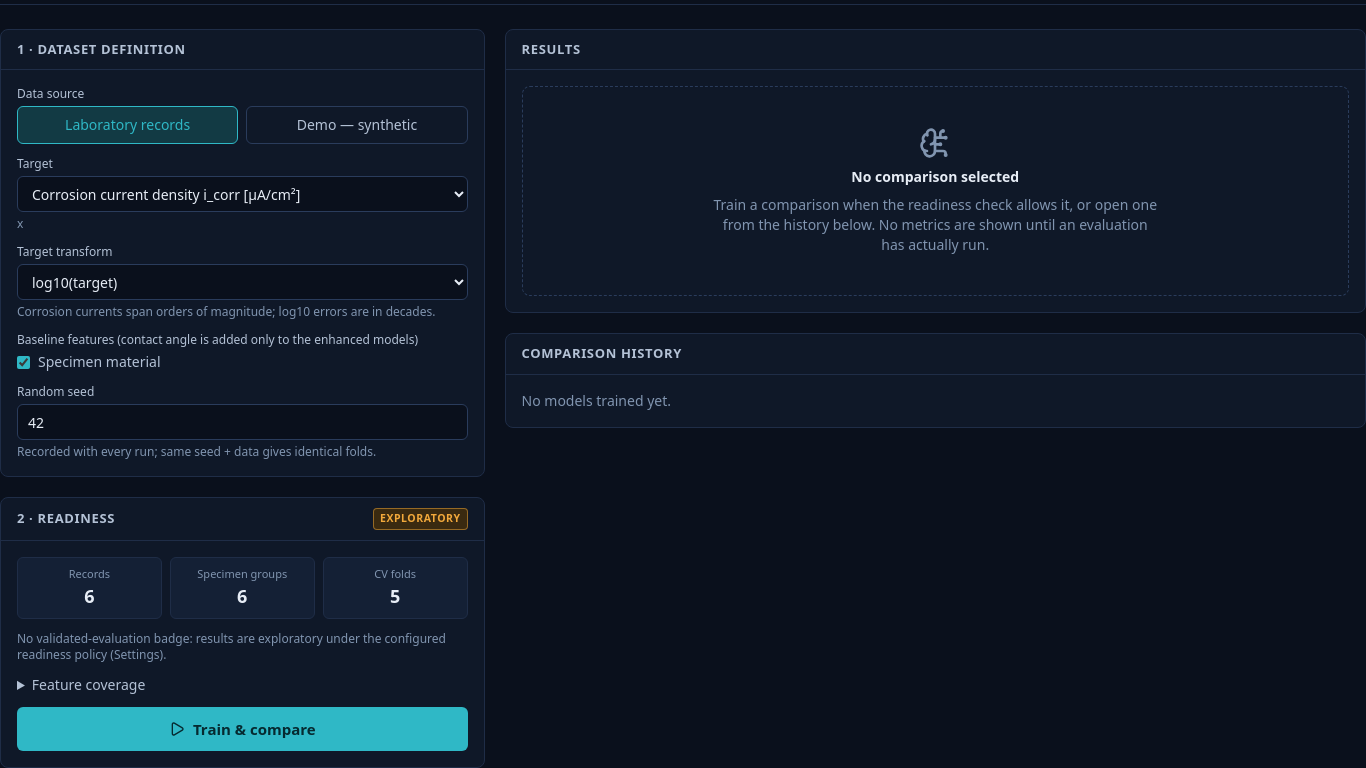
ML studio › shows a training failure returned by the backend
The width and height of the screenshot is (1366, 768).
(page scrolled)
Click the button "Train & compare": (242, 729) x1=17 y1=707 x2=468 y2=751
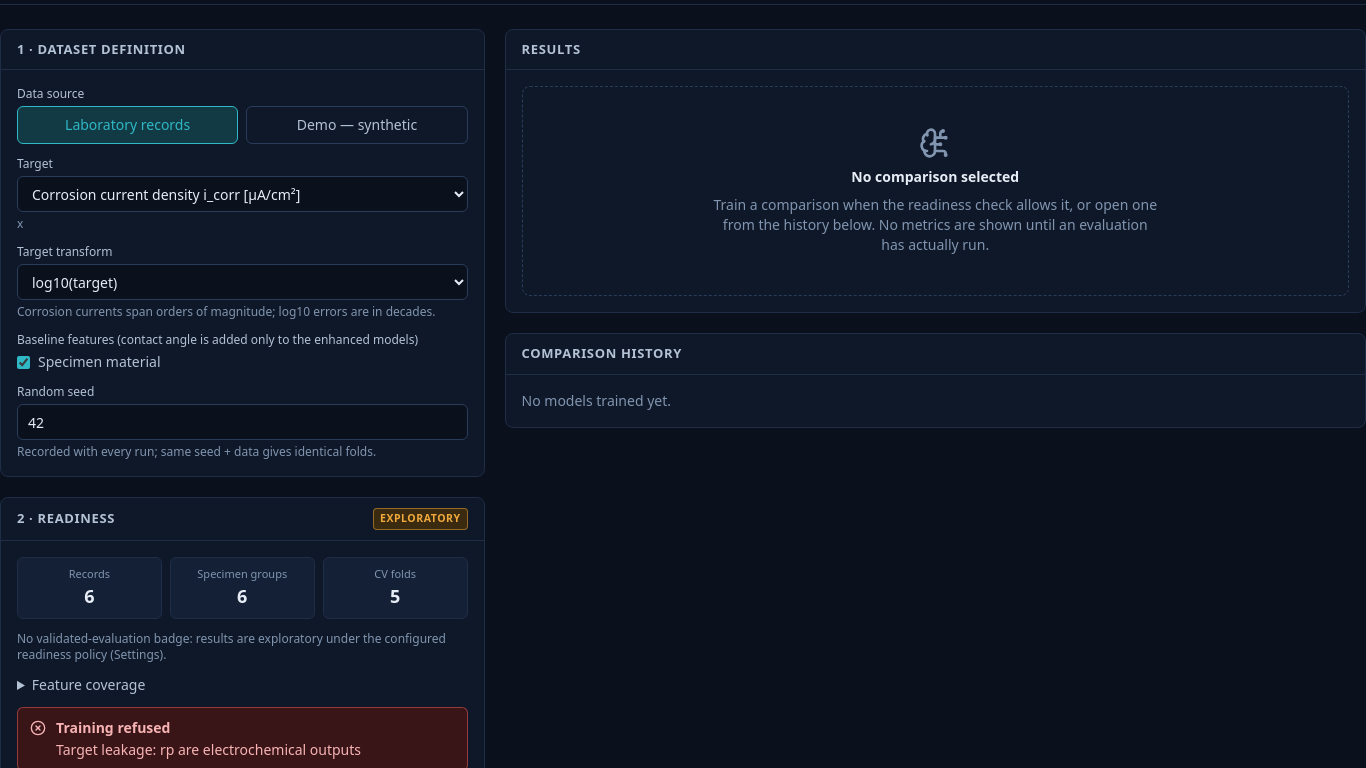
Check: the text "Target leakage: rp are electrochemical outputs" is shown, box x1=56 y1=740 x2=361 y2=760
